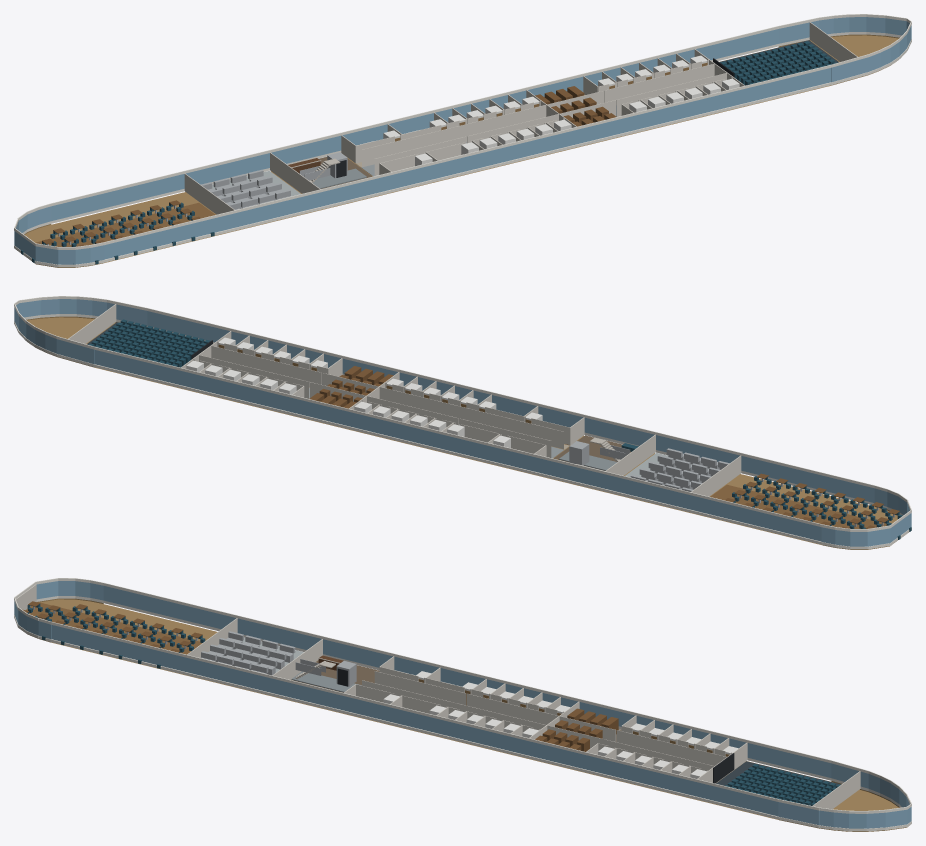
The model's file is deck_main.glb.
3 views of the same model, one above another, from view 1: azimuth 30°, elevation 25°; view 2: azimuth 150°, elevation 25°; view 3: azimuth 330°, elevation 25° (orthographic).
Visible parts, largest first — view 1: deck_main (×9); view 2: deck_main (×9); view 3: deck_main (×11).
Part boxes in pixels (x1=…): deck_main (×9): x1=14, y1=14, x2=911, y2=267; deck_main (×9): x1=14, y1=296, x2=911, y2=549; deck_main (×11): x1=14, y1=578, x2=911, y2=831.
Bounding box in the file's own units: 124 × 3.01 × 13.12.
